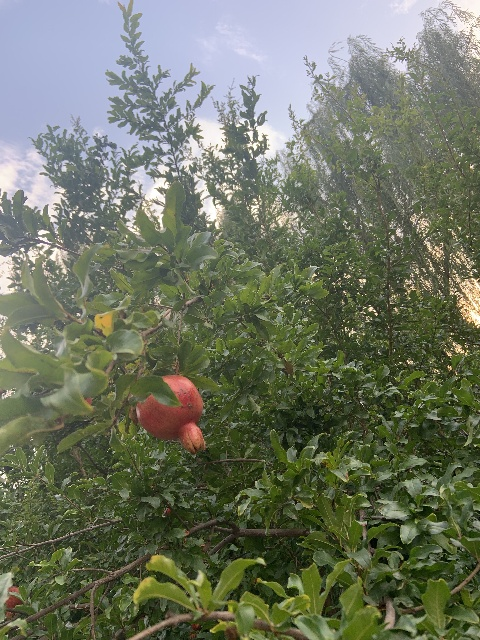ripe: (136, 374, 205, 453), (4, 586, 22, 619)
